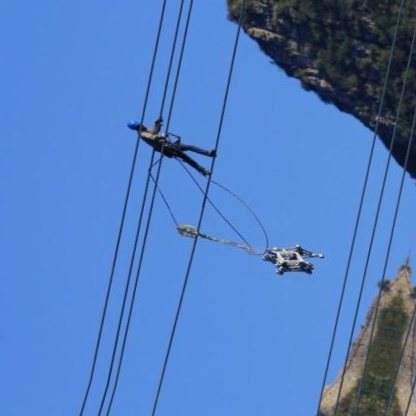blue: (121, 114, 143, 133)
